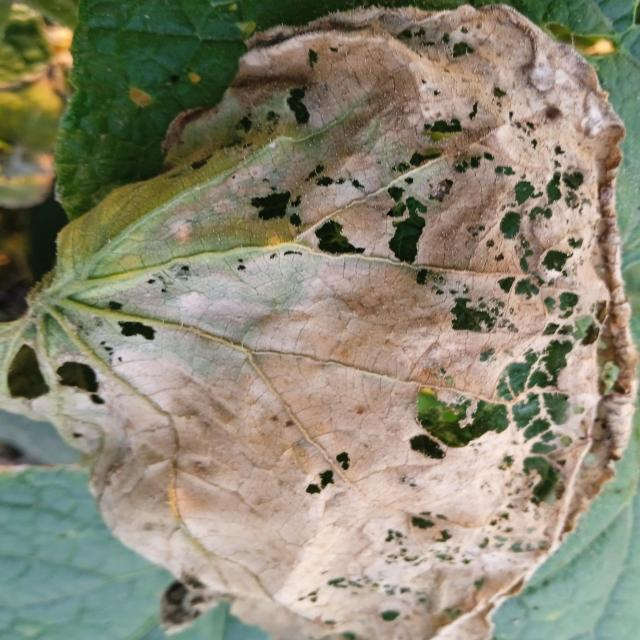cucumber_anthracnose: (7, 56, 625, 626)
